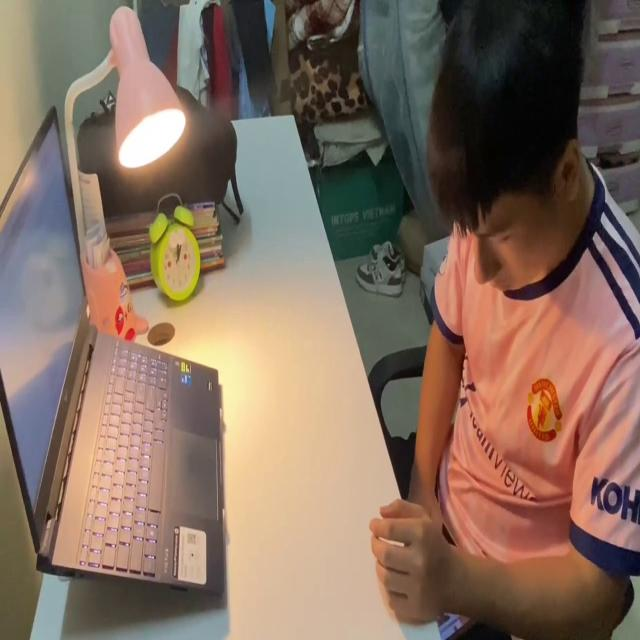laptop: (0, 100, 228, 606)
student: (368, 0, 640, 640)
